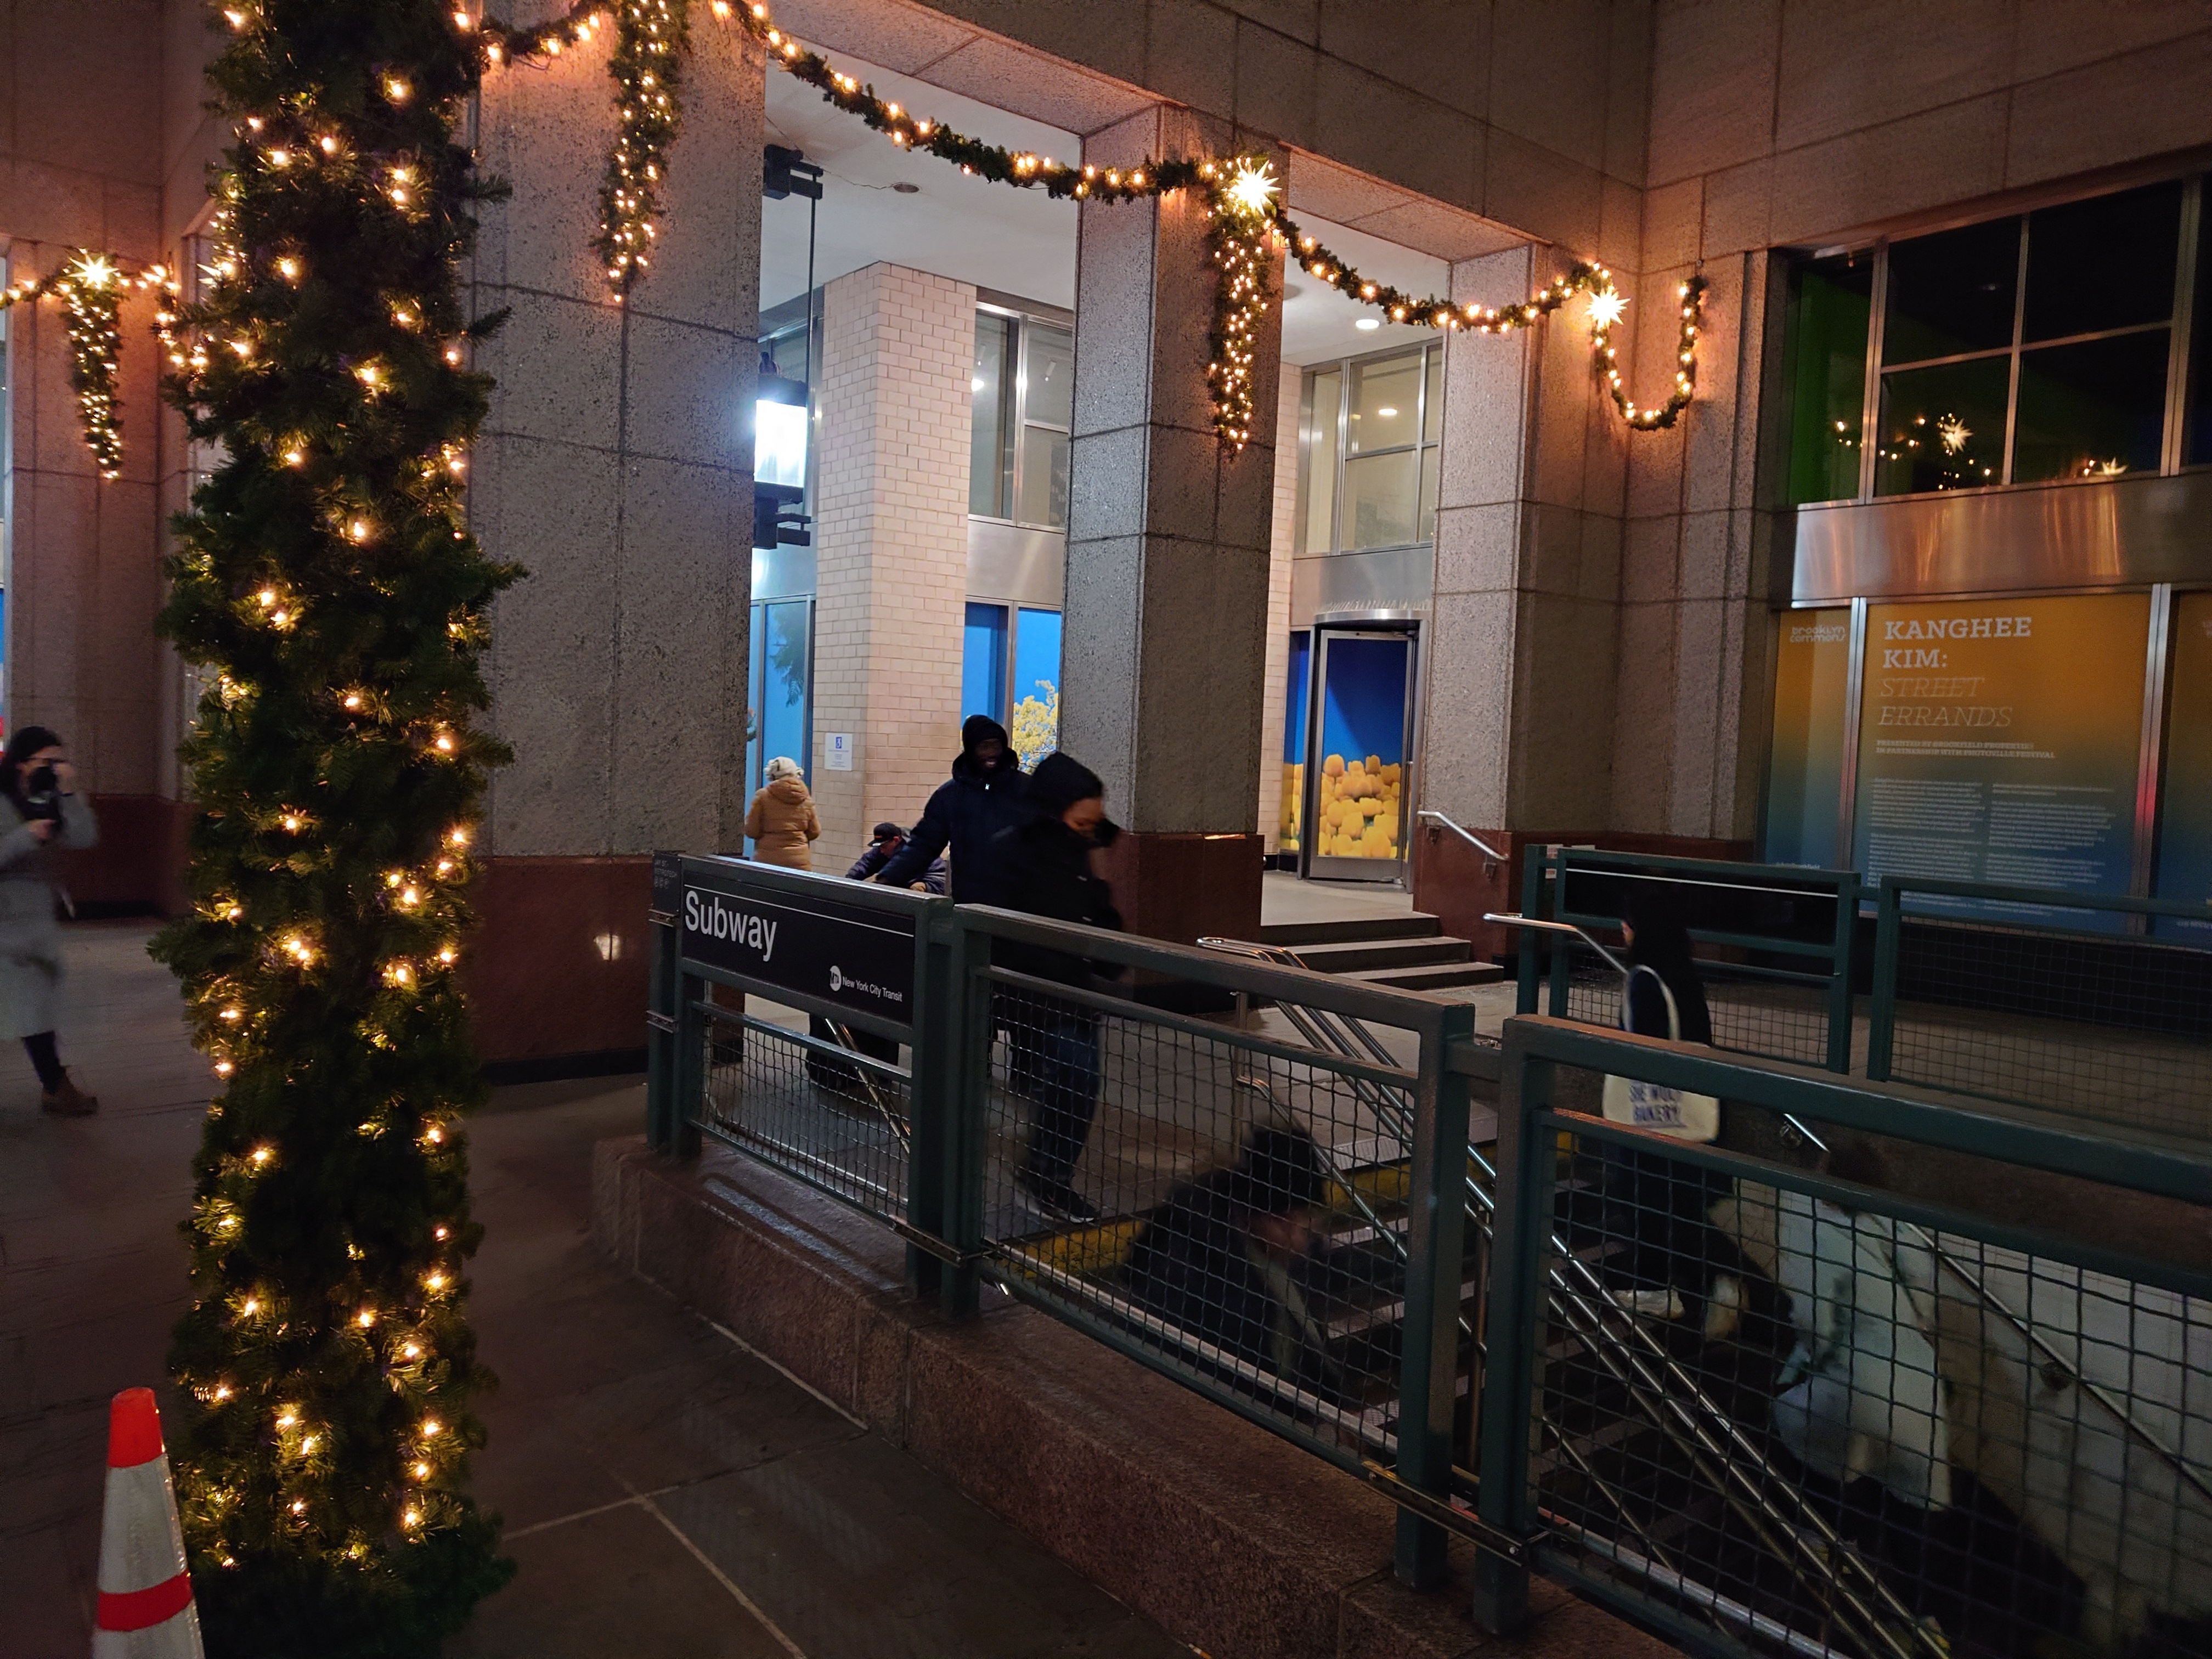person: (1595, 900, 1751, 1344), (990, 757, 1121, 1233), (1802, 1144, 1944, 1581), (1145, 1110, 1347, 1408), (2, 728, 109, 1119), (905, 718, 1055, 926), (746, 749, 818, 893)
